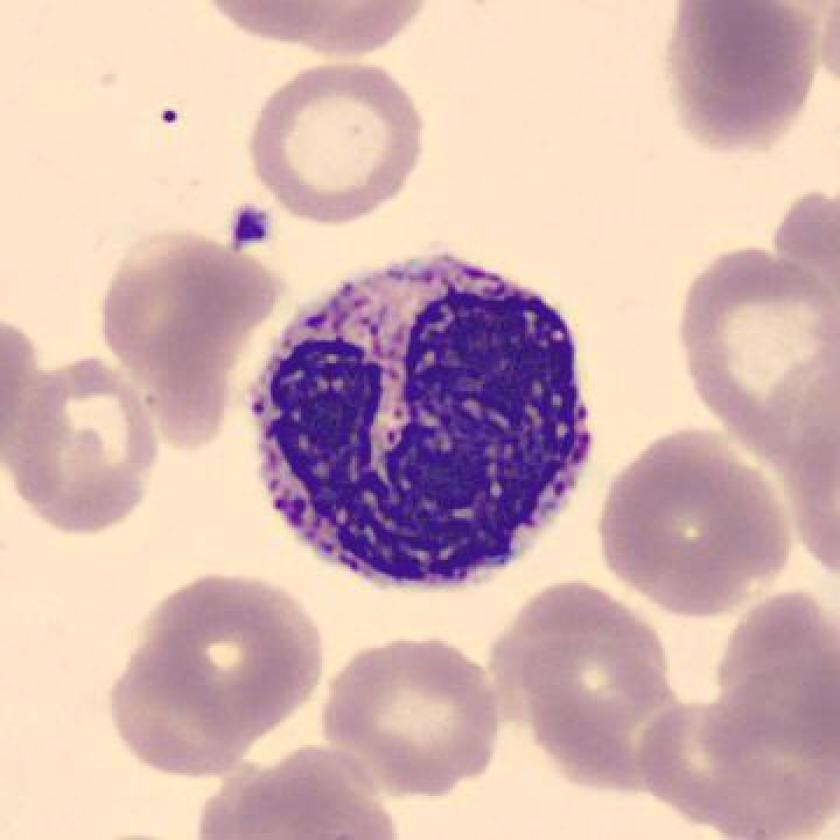basophil: (249, 251, 613, 598)
